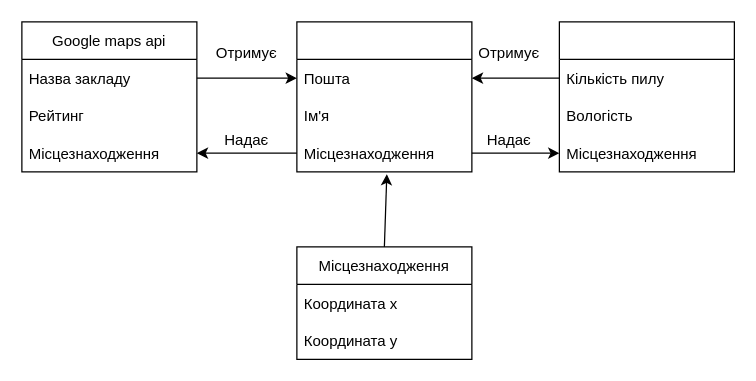
Image size: 756x381. Some labels were removed from this diagram. The box of each missing label's shape, as (x1, y1, x2, y2) in pixels:
Clear air API: (558, 21, 734, 172)
Споживач: (296, 21, 472, 172)
